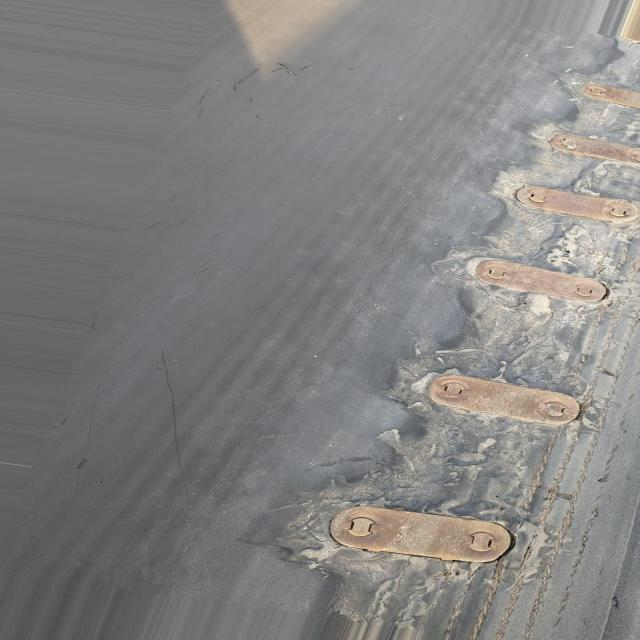patch work: (279, 47, 640, 621)
